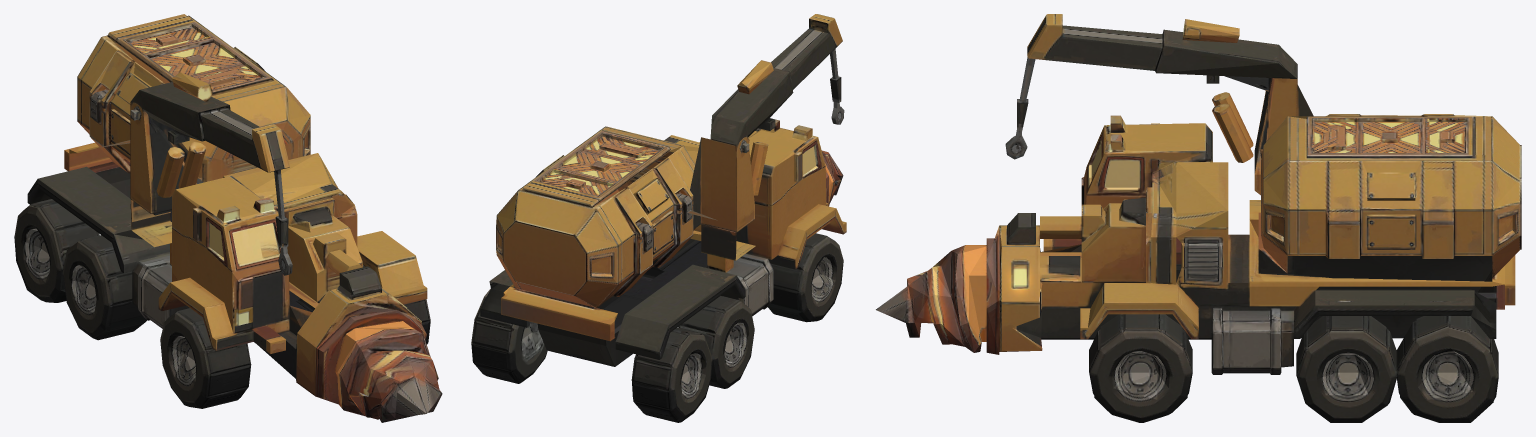
File: truck.glb
3 renders of one model, left to right at view 1: azimuth 30°, elevation 25°; view 2: azimuth 150°, elevation 25°; view 3: azimuth 270°, elevation 25°, orthographic. The views are drawn at different scales.
Visible parts, largest first — view 1: tripo_node_b4237494-9a49-4975-bfb1-6e63858b61e2; view 2: tripo_node_b4237494-9a49-4975-bfb1-6e63858b61e2; view 3: tripo_node_b4237494-9a49-4975-bfb1-6e63858b61e2.
Boxes of the visible parts, x1,y1,x2,y2 form: tripo_node_b4237494-9a49-4975-bfb1-6e63858b61e2: [14, 14, 442, 422]; tripo_node_b4237494-9a49-4975-bfb1-6e63858b61e2: [471, 14, 846, 422]; tripo_node_b4237494-9a49-4975-bfb1-6e63858b61e2: [876, 14, 1521, 422].
Bounding box in the file's own units: 0.4247 × 0.5343 × 1.
1 material, 1 textured.
